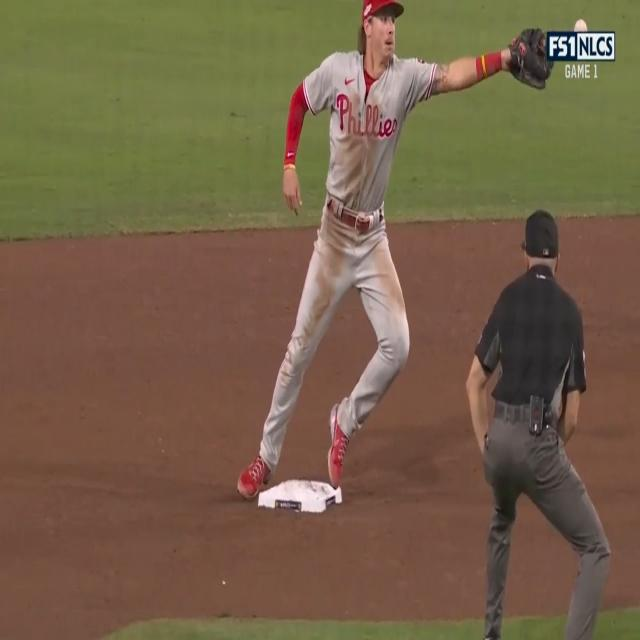baseball: (573, 18, 588, 33)
